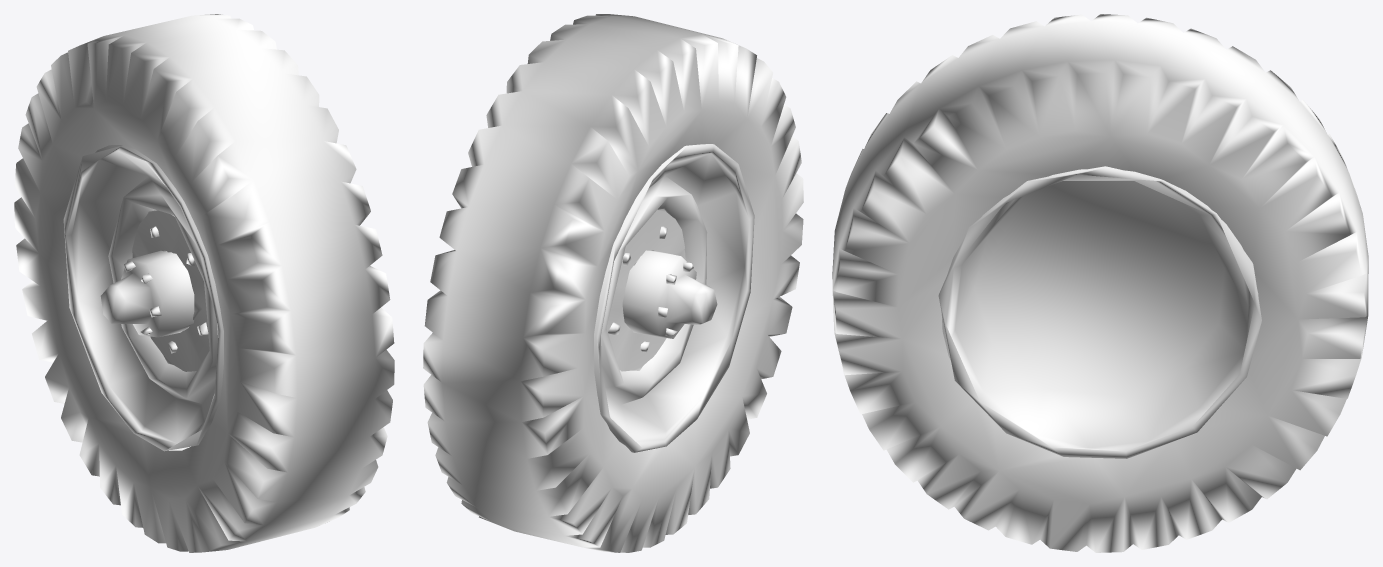
3 renders of one model, left to right at view 1: azimuth 30°, elevation 25°; view 2: azimuth 150°, elevation 25°; view 3: azimuth 270°, elevation 25°, orthographic.
Bounding box in the file's own units: 0.2645 × 0.741 × 0.7412.
Materials: 1 (1 with a texture image).
